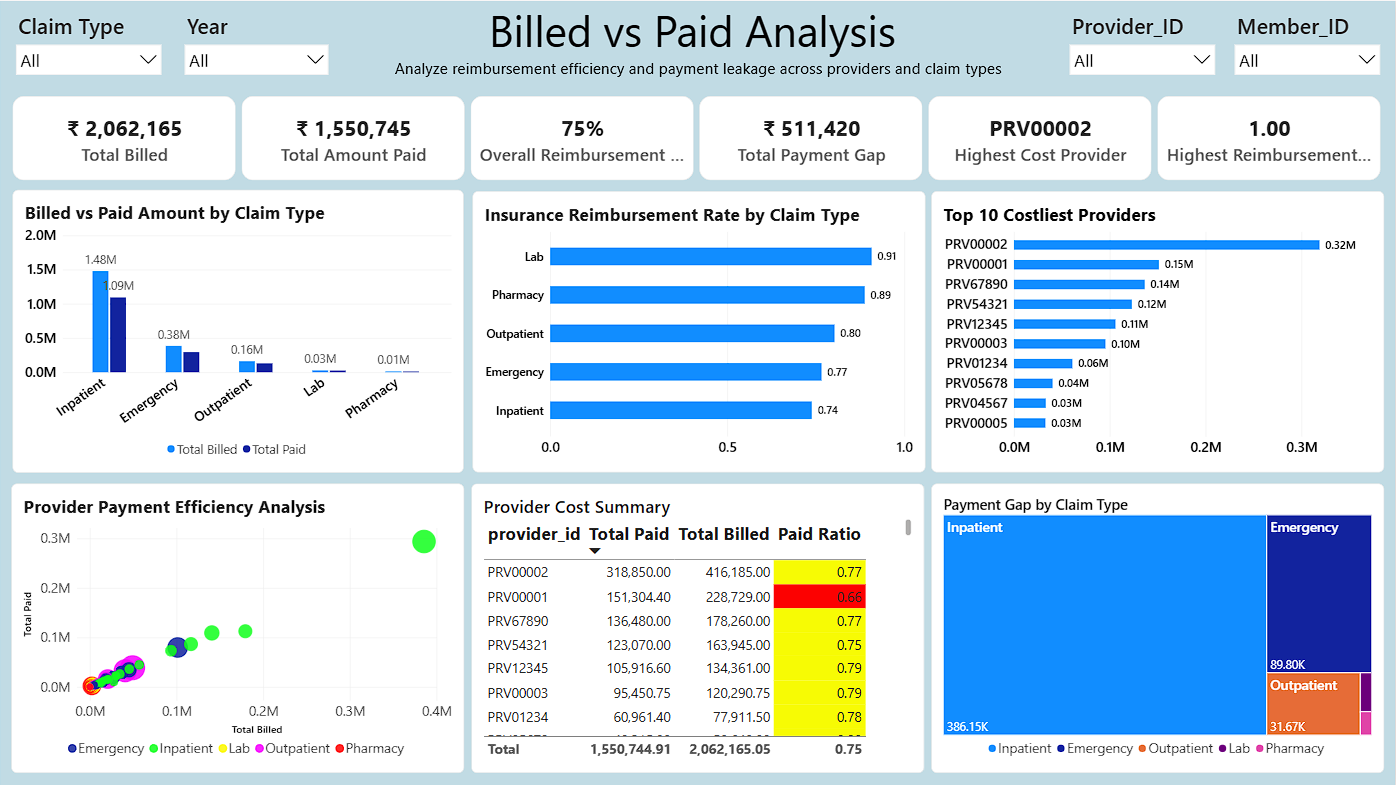

Layout of this report page (visuals, bound fields, positions):
{"tool":"powerbi","page":{"name":"Billed vs Paid Analysis","canvas":[1920,1080],"ordinal":4},"visuals":[{"type":"textbox","box":[535.8,0,848.3,110.4],"z":0},{"type":"slicer","fields":{"Values":["claims.claim_type"]},"box":[17.3,13,209.9,100],"z":1000},{"type":"slicer","fields":{"Values":["claims.claim_date.Variation.Date Hierarchy.Year"]},"box":[248.9,13,207.8,99.6],"z":2000},{"type":"slicer","fields":{"Values":["claims.provider_id"]},"box":[1467.3,13,209.9,99.6],"z":3000},{"type":"slicer","fields":{"Values":["claims.member_id"]},"box":[1694.5,13,209.9,99.6],"z":4000},{"type":"cardVisual","fields":{"Data":["claims.Total Billed","claims.Total Paid","claims.Overall Paid Ratio","claims.Payment Gap","claims.Highest Cost Provider","claims.Best Paid Ratio"]},"box":[17.3,129.8,1887.1,116.9],"z":5000},{"type":"clusteredColumnChart","title":"Billed vs Paid Amount by Claim Type","fields":{"Category":["claims.claim_type"],"Y":["claims.Total Billed","claims.Total Paid"]},"box":[17.3,259.7,621.1,389.5],"z":5001},{"type":"barChart","title":"Insurance Reimbursement Rate by Claim Type","fields":{"Category":["claims.claim_type"],"Y":["claims.Paid Ratio"]},"box":[649.2,261.9,623.3,387.4],"z":5002},{"type":"barChart","title":"Top 10 Costliest Providers","fields":{"Category":["claims.provider_id"],"Y":["Sum(claims.paid_amount)"]},"box":[1281.2,261.9,623.3,387.4],"z":5003},{"type":"scatterChart","title":"Provider Payment Efficiency Analysis","fields":{"Category":["claims.provider_id"],"Series":["claims.claim_type"],"Size":["claims.Total Claims"],"X":["claims.Total Billed"],"Y":["claims.Total Paid"]},"box":[15.1,664.4,623.3,398.2],"z":5004},{"type":"tableEx","title":"Provider Cost Summary","fields":{"Values":["claims.provider_id","claims.Total Paid","claims.Total Billed","claims.Paid Ratio"]},"box":[649,664,623,398],"z":5005},{"type":"treemap","title":"Payment Gap by Claim Type","fields":{"Group":["claims.claim_type"],"Values":["claims.Payment Gap"]},"box":[1281,664,623,398],"z":5006}]}

Visuals, with their boxes in screenshot pixels (x1, y1, x2, y2), scaled from the page's 1920x1080 canvas onto the 1396x785 screenshot:
textbox: x1=390, y1=0, x2=1006, y2=80
slicer - claims.claim_type: x1=13, y1=9, x2=165, y2=82
slicer - claims.claim_date.Variation.Date Hierarchy.Year: x1=181, y1=9, x2=332, y2=82
slicer - claims.provider_id: x1=1067, y1=9, x2=1219, y2=82
slicer - claims.member_id: x1=1232, y1=9, x2=1385, y2=82
cardVisual - claims.Total Billed x claims.Total Paid: x1=13, y1=94, x2=1385, y2=179
"Billed vs Paid Amount by Claim Type" clusteredColumnChart: x1=13, y1=189, x2=464, y2=472
"Insurance Reimbursement Rate by Claim Type" barChart: x1=472, y1=190, x2=925, y2=472
"Top 10 Costliest Providers" barChart: x1=932, y1=190, x2=1385, y2=472
"Provider Payment Efficiency Analysis" scatterChart: x1=11, y1=483, x2=464, y2=772
"Provider Cost Summary" tableEx: x1=472, y1=483, x2=925, y2=772
"Payment Gap by Claim Type" treemap: x1=931, y1=483, x2=1384, y2=772
